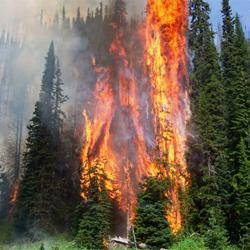fire: (148, 1, 188, 174), (85, 113, 123, 190)
